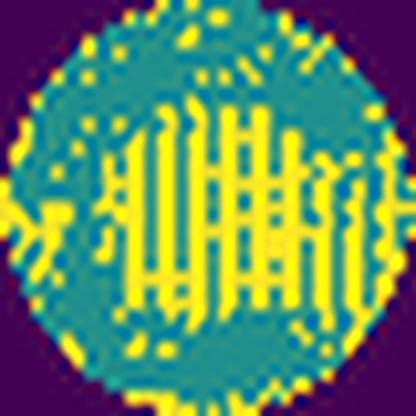Random: (0, 93, 416, 338)
